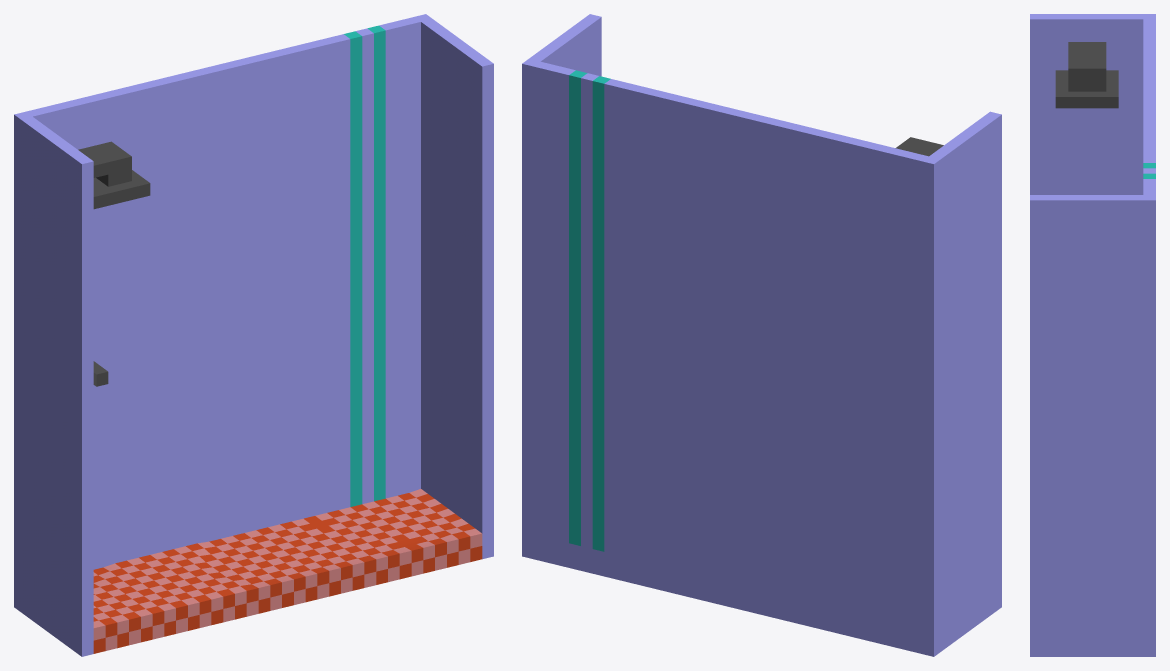
Rendered from Masterbedroom shower.fbx.
The picture shows the model from 3 angles, left to right: view 1: azimuth 30°, elevation 25°; view 2: azimuth 150°, elevation 25°; view 3: azimuth 270°, elevation 25°; orthographic projection. The views are drawn at different scales.
Visible parts, largest first — view 1: Object001, showerhead; view 2: Object001; view 3: Object001, showerhead.
Part boxes in pixels (left/top/right/bottom): Object001: left=14, top=14, right=493, bottom=656; showerhead: left=78, top=141, right=150, bottom=209; Object001: left=522, top=14, right=1001, bottom=656; Object001: left=1030, top=14, right=1155, bottom=656; showerhead: left=1055, top=42, right=1118, bottom=108.
Bounding box in the file's own units: 3.5 × 4 × 1.
6 materials, 1 textured.
